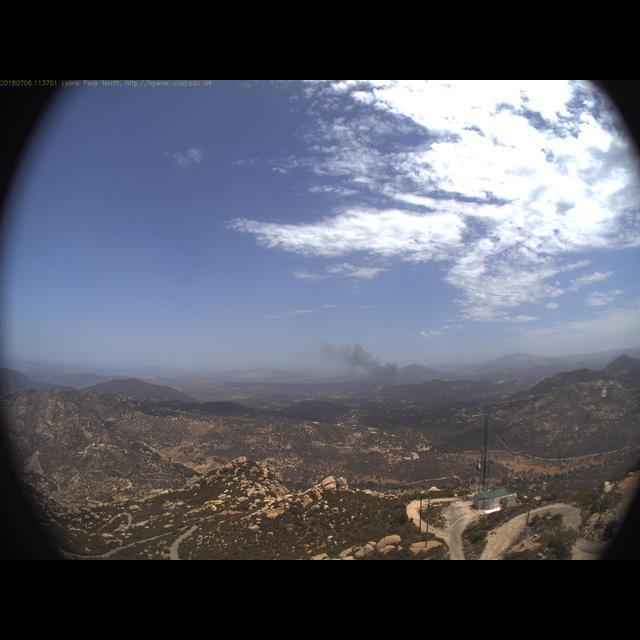Smoke: (309, 336, 421, 408)
